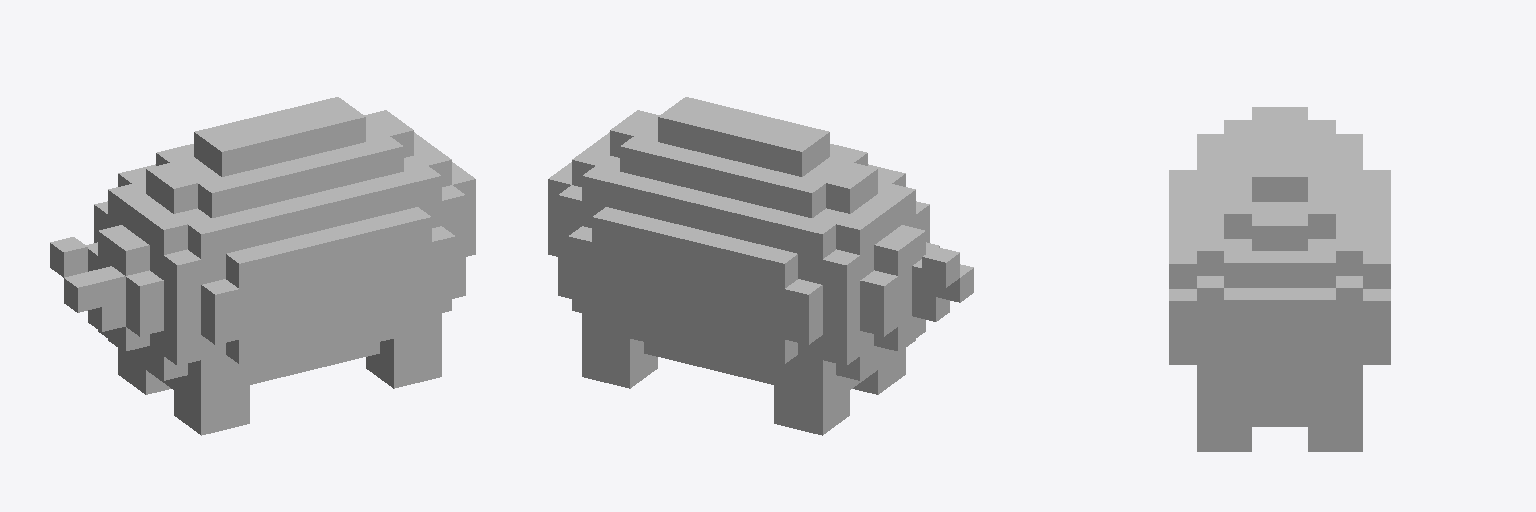
The model's file is Pig.obj.
3 views of the same model, side by side, from view 1: azimuth 30°, elevation 25°; view 2: azimuth 150°, elevation 25°; view 3: azimuth 270°, elevation 25° (orthographic).
Size of the model in its own units: 16 by 10 by 8.